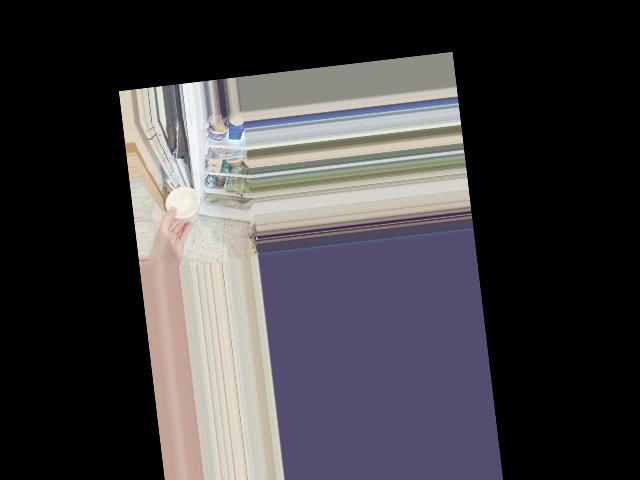cotage: (167, 186, 201, 222)
